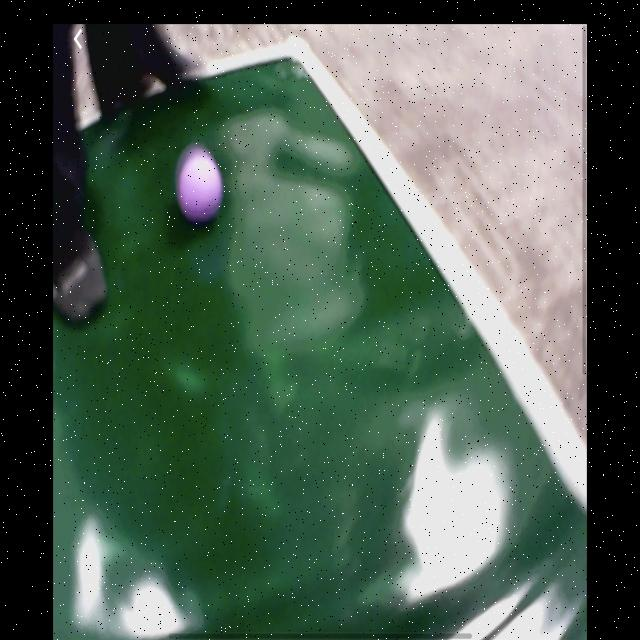ball: (176, 144, 225, 226)
